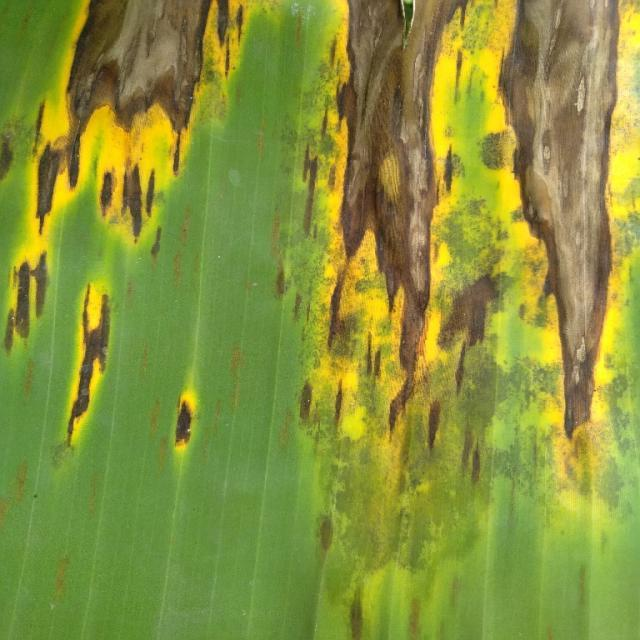Early_rust: (295, 0, 640, 510), (0, 0, 244, 489)
